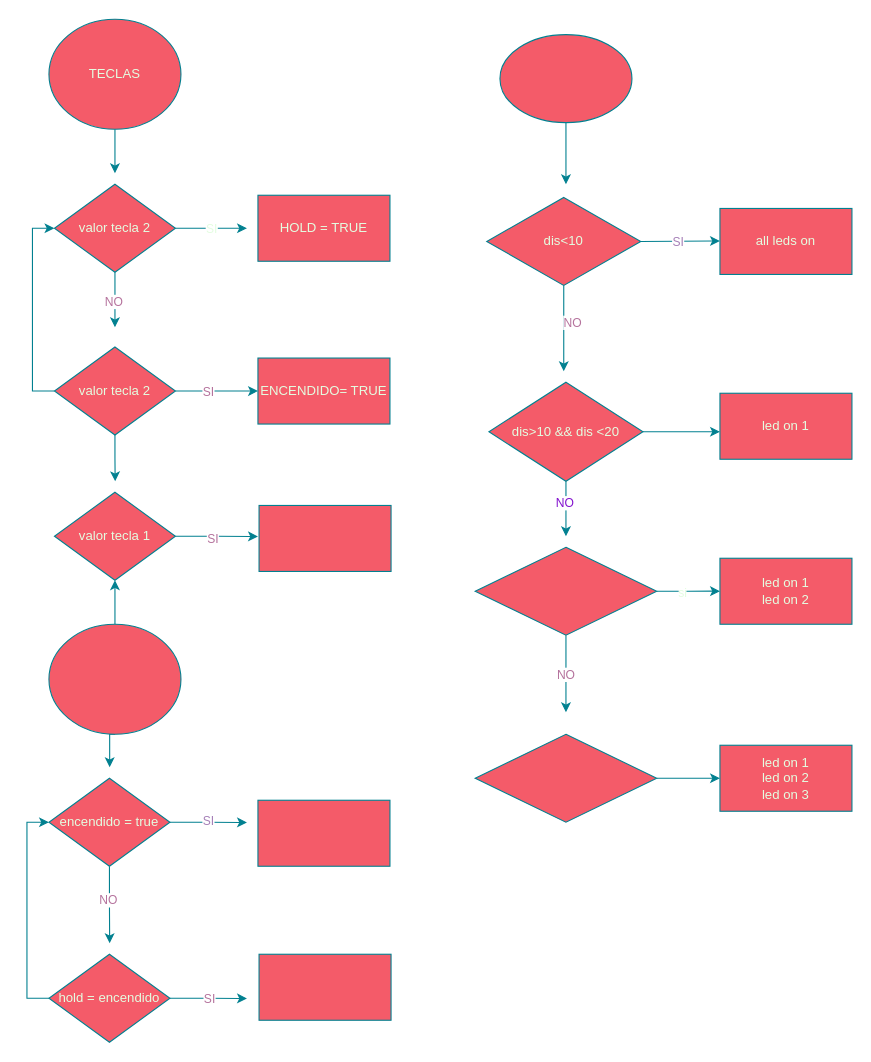
Image size: 871x1062. Some labels were removed from this diagram. The shapes that lost their labels are listed below. From the top down, each one's box as (x1, y1, x2, y2) in pixels, then its label:
(499, 34, 632, 123): LEDS
(258, 504, 391, 571): MEDIR=TRUE
(474, 546, 657, 635): dis >20 && dis <30
(48, 623, 181, 734): MOSTRAR
(474, 733, 657, 822): dis>30
(257, 799, 390, 866): Muestro distancia cada 1 s
(258, 953, 391, 1020): Muestro ultima distancia
